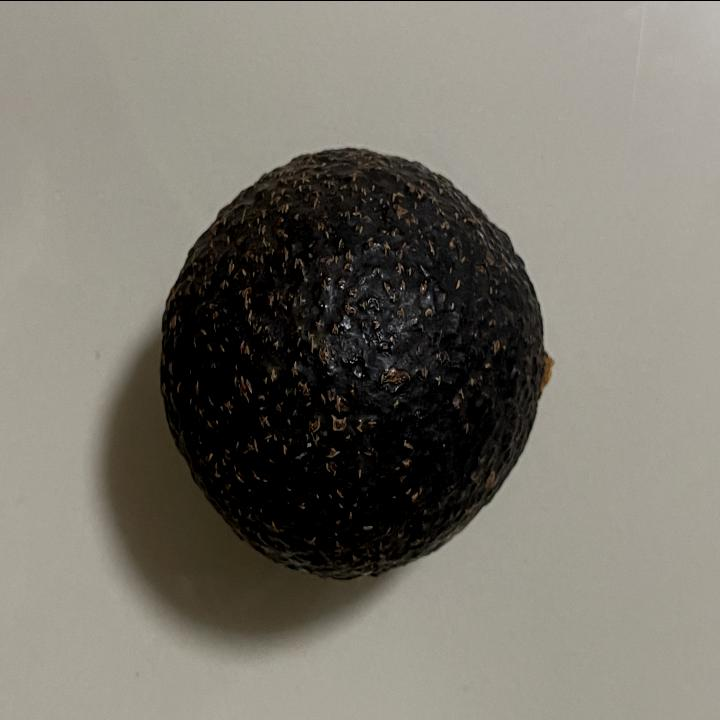Level2: (153, 139, 559, 587)
